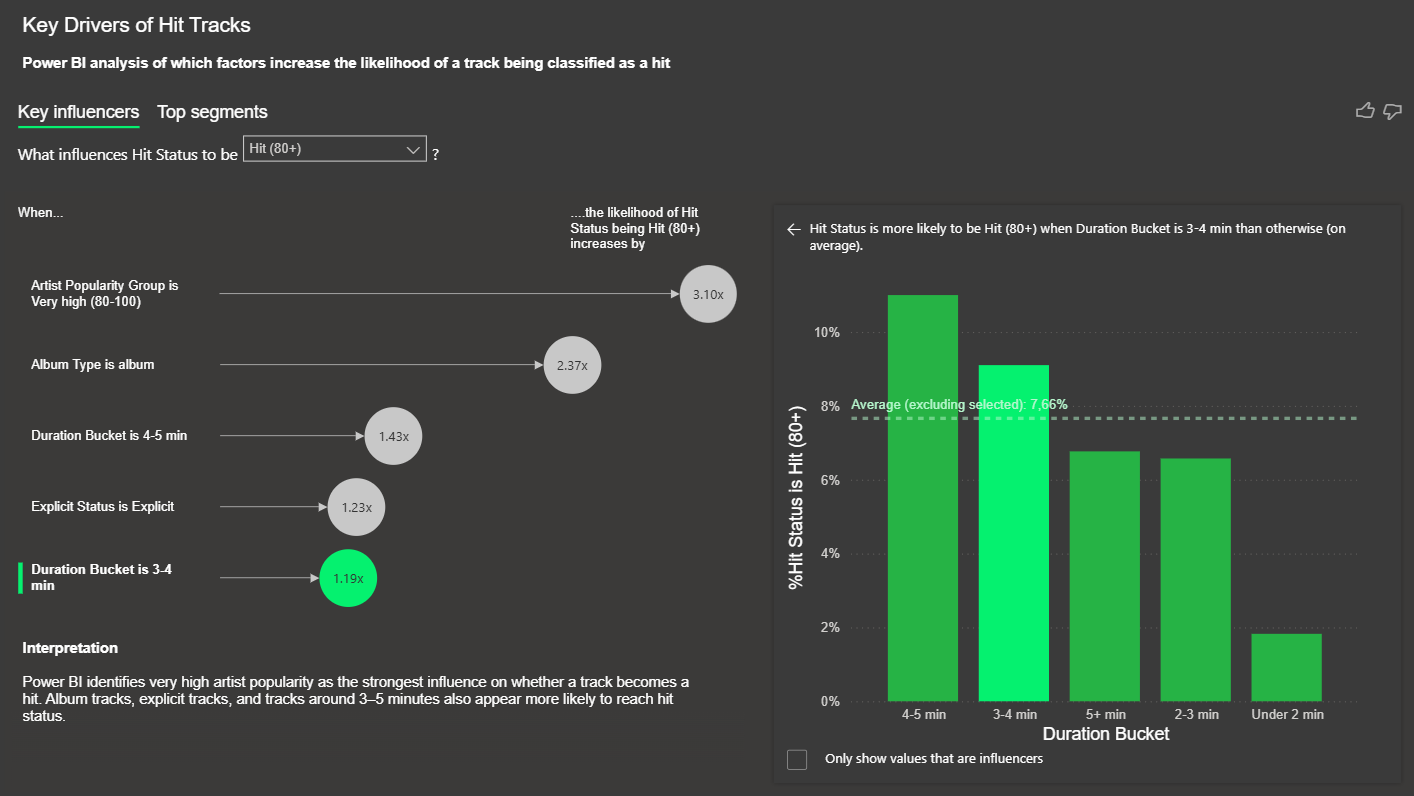

This screenshot's page, from the dashboard's own definition file:
{"tool":"powerbi","page":{"name":"Key Influencers","canvas":[1280,720],"ordinal":2},"visuals":[{"type":"keyDriversVisual","fields":{"Target":["Spotify.Hit Status"],"ExplainBy":["Spotify.Artist Popularity Group","Spotify.Duration Bucket","Spotify.album_type","Spotify.Explicit Label"]},"box":[0,78.8,1280,641],"z":0},{"type":"textbox","box":[15.6,7.8,631.2,71],"z":1000},{"type":"textbox","box":[15.6,571.9,630.3,91.4],"z":2000}]}

Visuals, with their boxes in screenshot pixels (x1, y1, x2, y2), scaled from the page's 1280x720 canvas onto the 1414x796 screenshot:
keyDriversVisual - Spotify.Hit Status x Spotify.Artist Popularity Group: 0,87,1413,795
textbox: 17,9,715,87
textbox: 17,632,714,733
